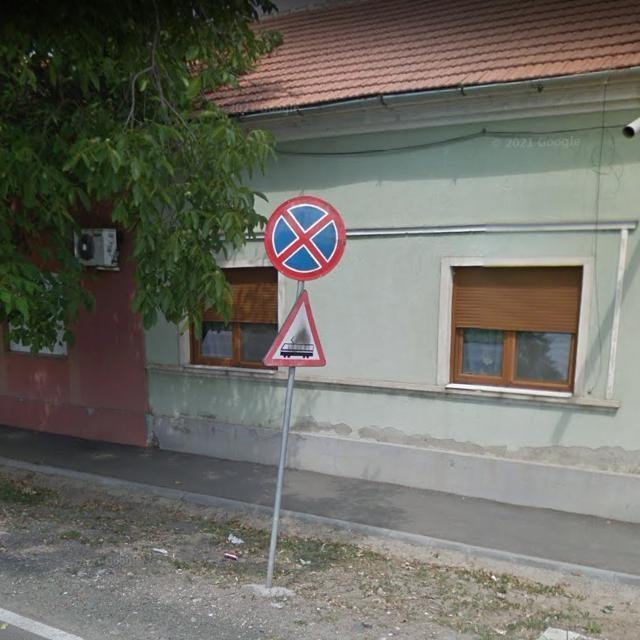forb_waiting: (263, 196, 344, 282)
